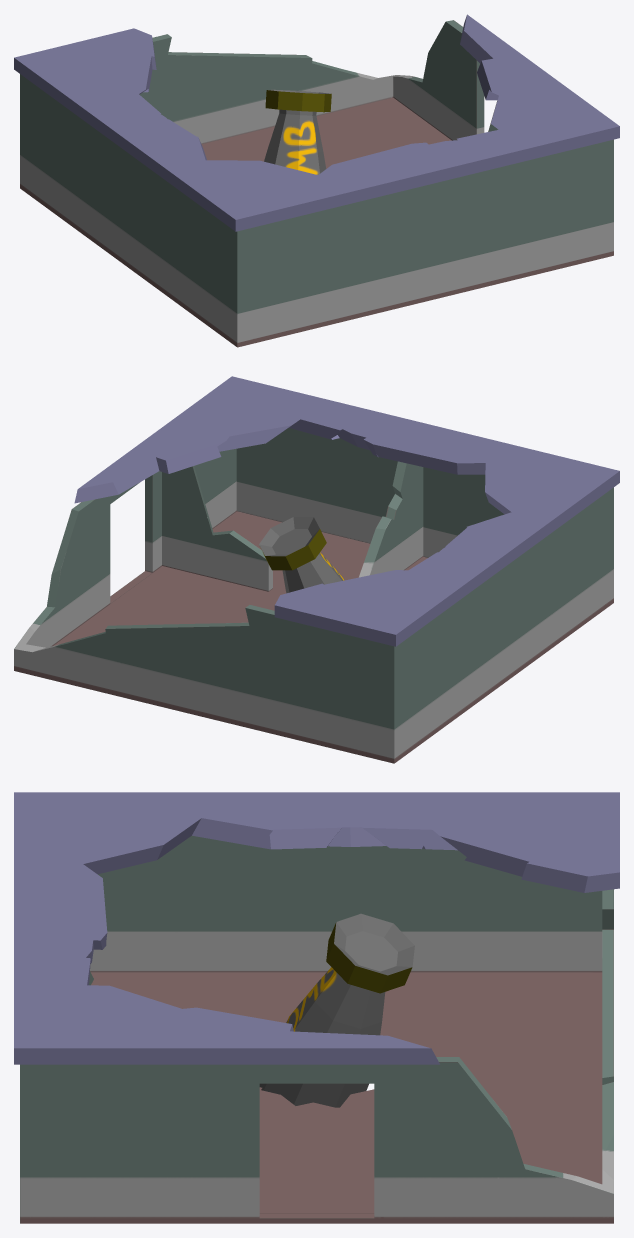
Rendered from BombHouse.fbx.
The picture shows the model from 3 angles, top to bottom: view 1: azimuth 30°, elevation 25°; view 2: azimuth 150°, elevation 25°; view 3: azimuth 270°, elevation 25°; orthographic projection. The views are drawn at different scales.
Visible parts, largest first — view 1: Cube, Cube.015, Cylinder; view 2: Cube, Cube.015, Cylinder; view 3: Cube, Cube.015, Cylinder.
Boxes of the visible parts, x1,y1,x2,y2 form: Cube: (20, 20, 613, 347); Cube.015: (14, 14, 619, 231); Cylinder: (264, 89, 331, 174); Cube: (14, 428, 613, 763); Cube.015: (74, 376, 619, 646); Cylinder: (259, 517, 344, 593); Cube: (20, 835, 613, 1223); Cube.015: (14, 792, 619, 1064); Cylinder: (259, 913, 414, 1107).
Bounding box in the file's own units: 1020 × 434 × 1020.
4 materials, 2 textured.
